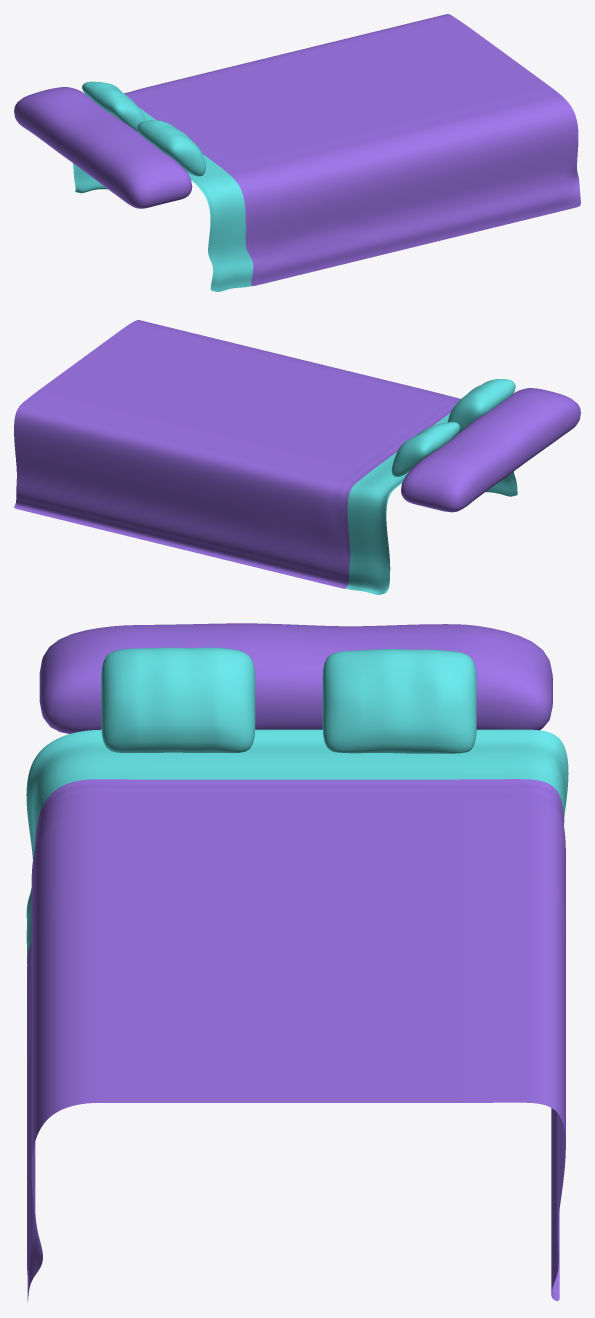
File: Cama_hecha.fbx
3 views of the same model, one above another, from view 1: azimuth 30°, elevation 25°; view 2: azimuth 150°, elevation 25°; view 3: azimuth 270°, elevation 25° (orthographic). The views are drawn at different scales.
Visible parts, largest first — view 1: Cama_hecha; view 2: Cama_hecha; view 3: Cama_hecha.
Part boxes in pixels (x1,y1,x2,y2): Cama_hecha: (14, 14, 580, 291); Cama_hecha: (14, 320, 580, 594); Cama_hecha: (26, 623, 568, 1302).
Bounding box in the file's own units: 1.89 × 0.583 × 0.9997.
